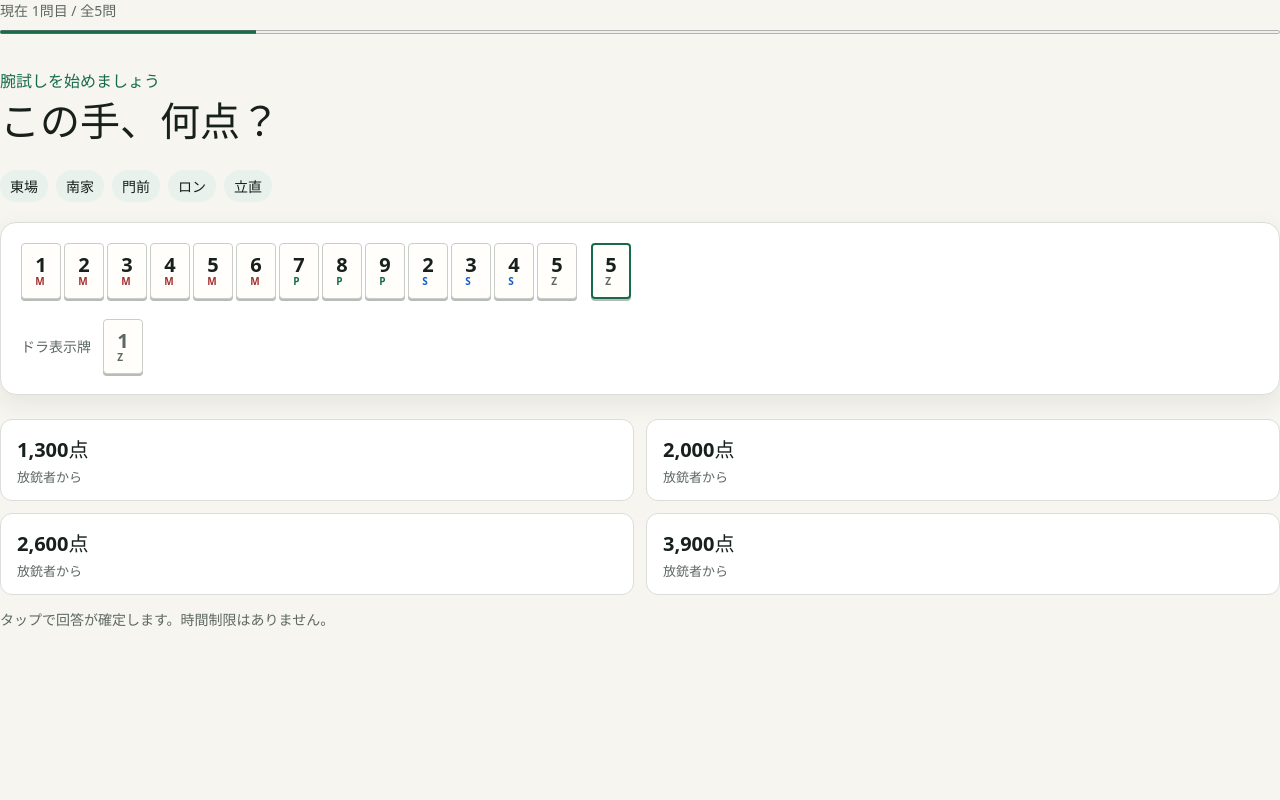
Test: supports skipping the probe
1問目: 誤答 (2,000点)
Click the button "2,000点 放銃者から" at (699, 450), box [646,419,1279,501]
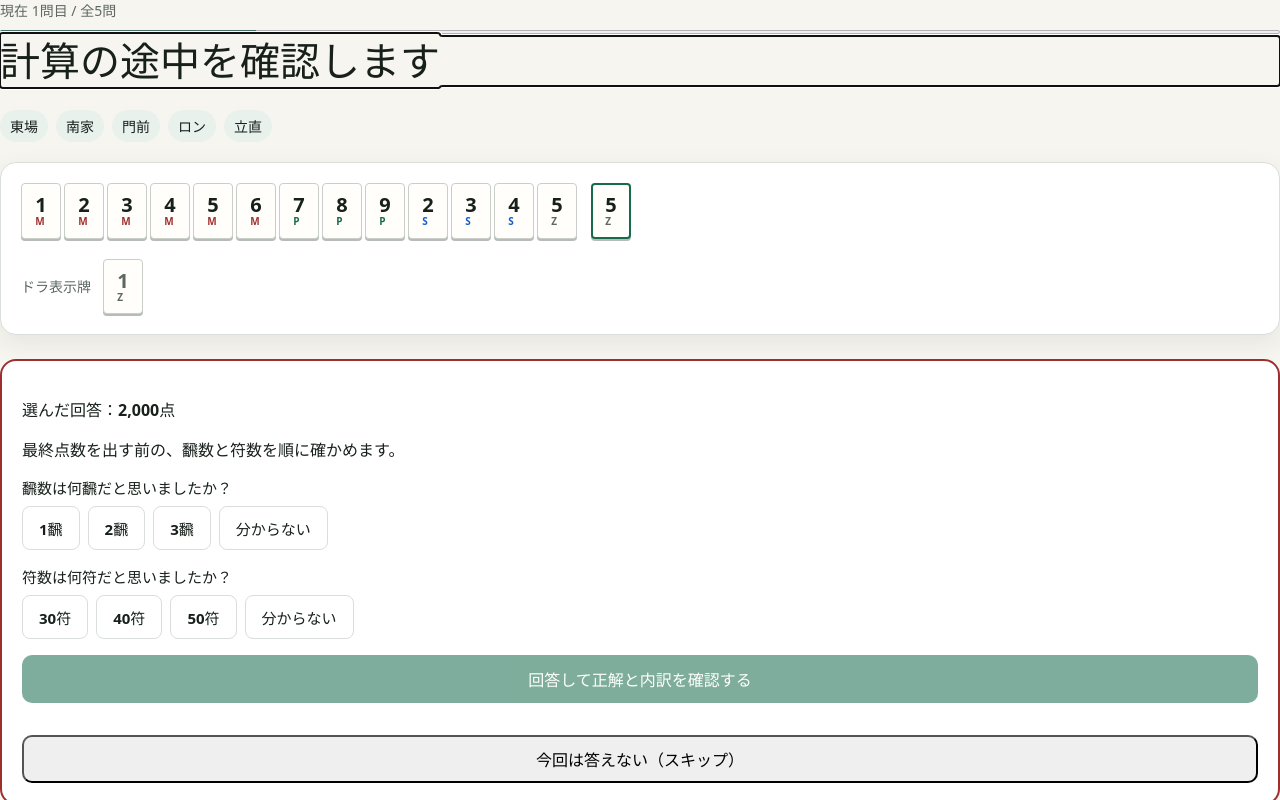
Expected: the heading "計算の途中を確認します" is shown, [0,33,440,88]
Click the button "今回は答えない（スキップ）" at (640, 759), box [22,735,1258,783]
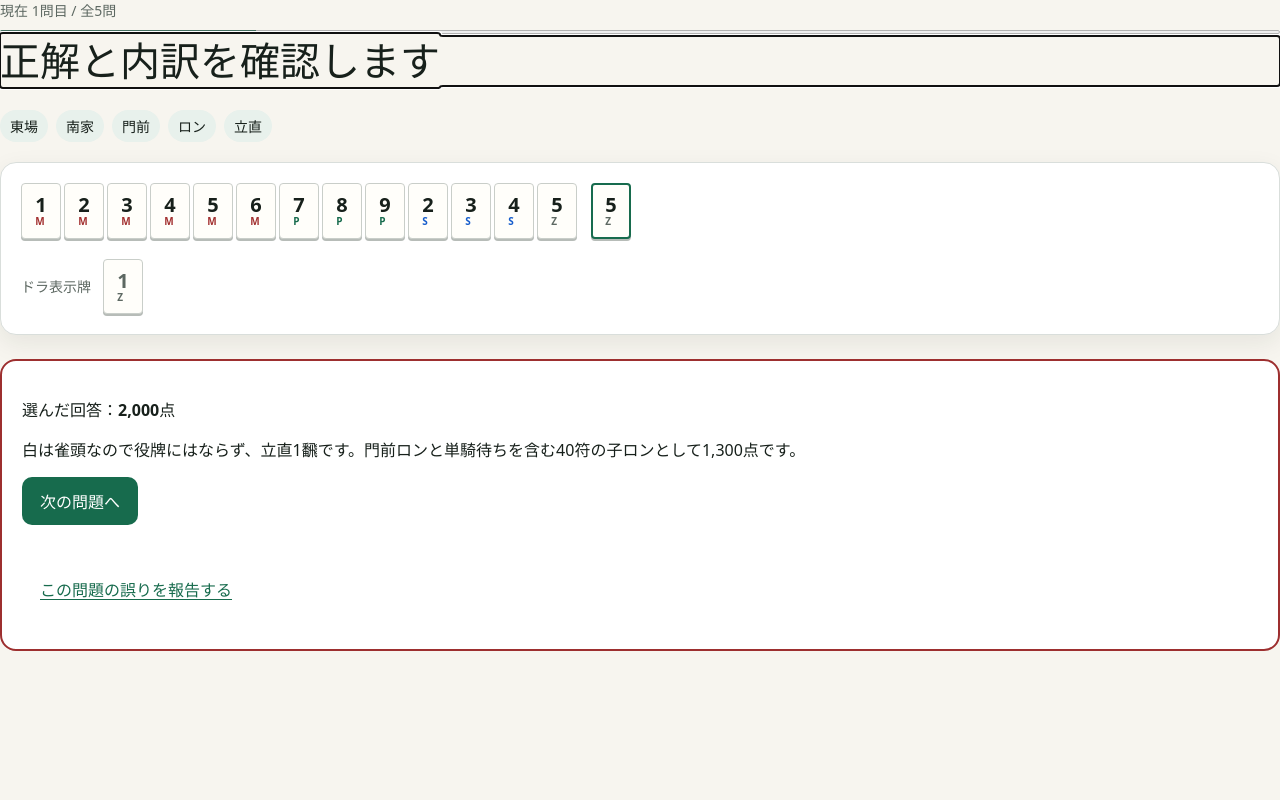
Expected: the heading "正解と内訳を確認します" is shown, [0,33,440,88]
